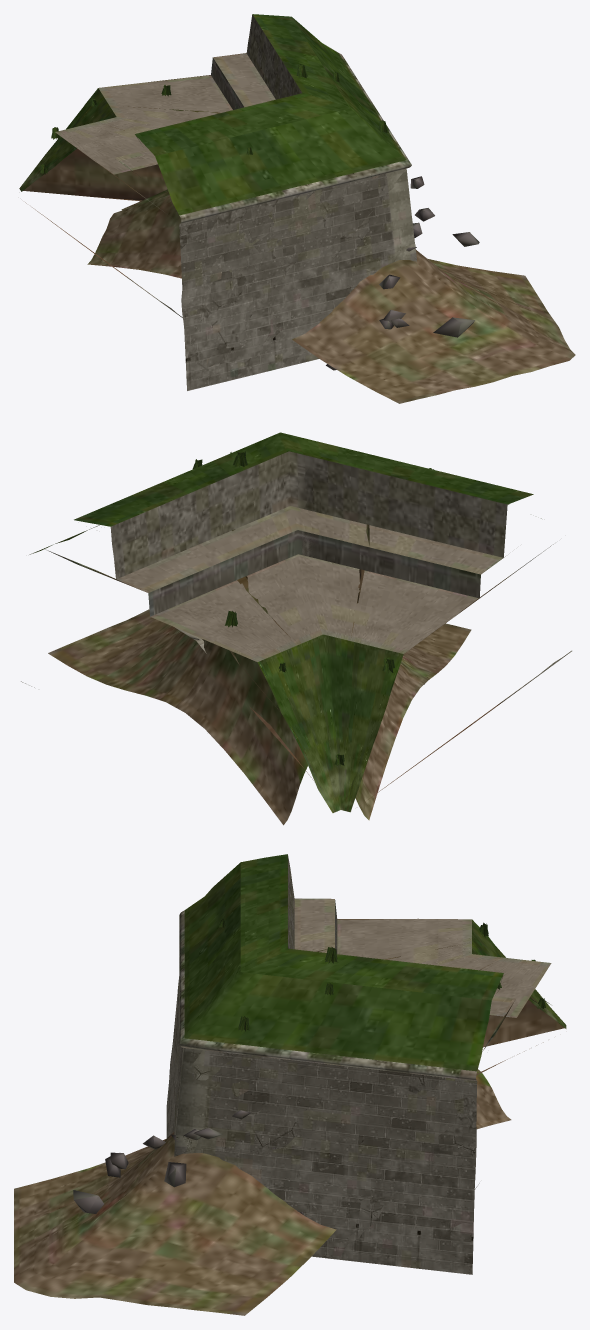
File: starfort_bastion_shoulder_a75_hero.glb
3 renders of one model, top to bottom at view 1: azimuth 30°, elevation 25°; view 2: azimuth 150°, elevation 25°; view 3: azimuth 270°, elevation 25°, orthographic. The views are drawn at different scales.
Visible parts, largest first — view 1: breached, intact, cracked; view 2: breached, cracked, intact, endcap_a; view 3: intact, breached, cracked.
Part boxes in pixels (x1,y1,x2,y2): breached: [23, 14, 575, 403]; intact: [21, 14, 414, 376]; cracked: [19, 16, 416, 390]; breached: [30, 455, 541, 825]; cracked: [37, 432, 517, 812]; intact: [67, 436, 532, 811]; endcap_a: [360, 504, 571, 805]; intact: [167, 859, 566, 1271]; breached: [14, 854, 565, 1315]; cracked: [166, 866, 566, 1263].
Size of what is drawn, in the model's own units: 11.07 by 6.53 by 12.52.
Materials: 2 (2 with a texture image).
